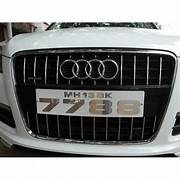number_plate: (36, 88, 144, 117)
